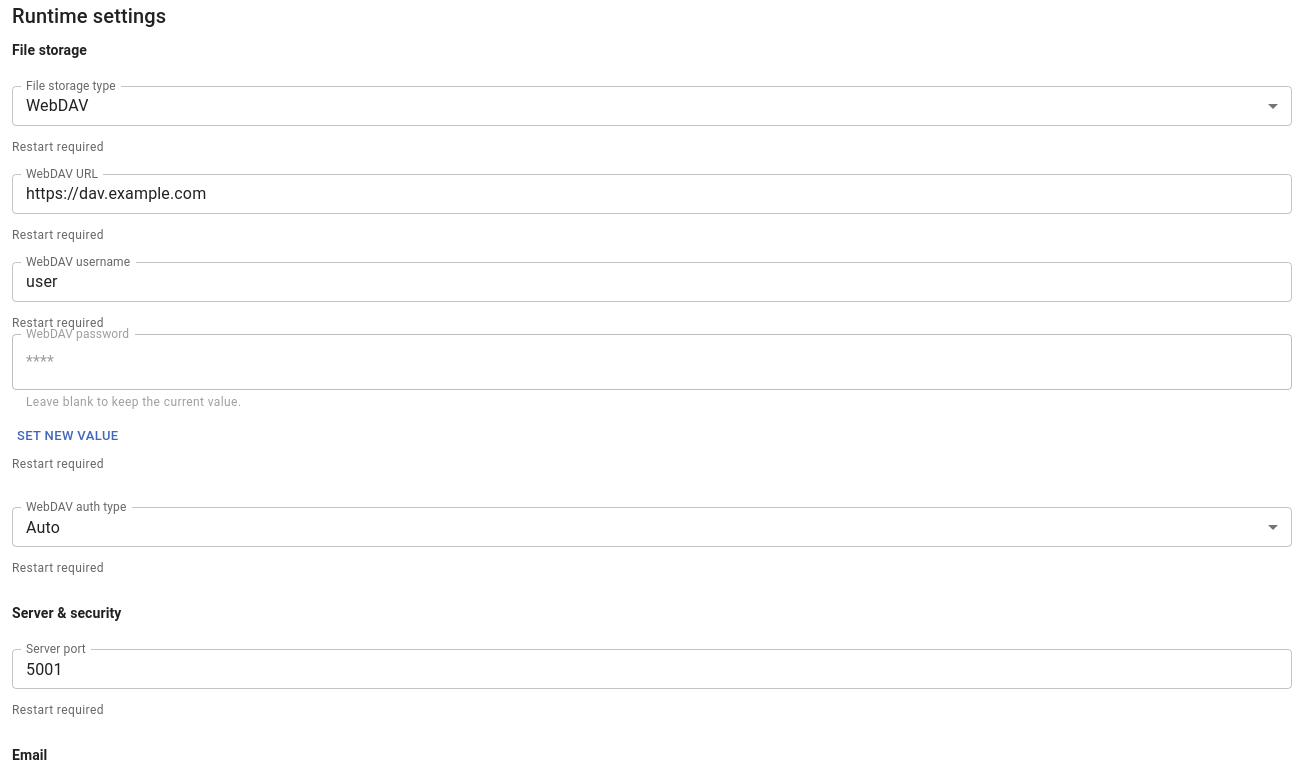
Scenario: SystemConfigEditor › disables Save when a connection key is dirty until the test passes
Clear the field labelled "WebDAV URL" at (652,194), box [12, 174, 1292, 214]
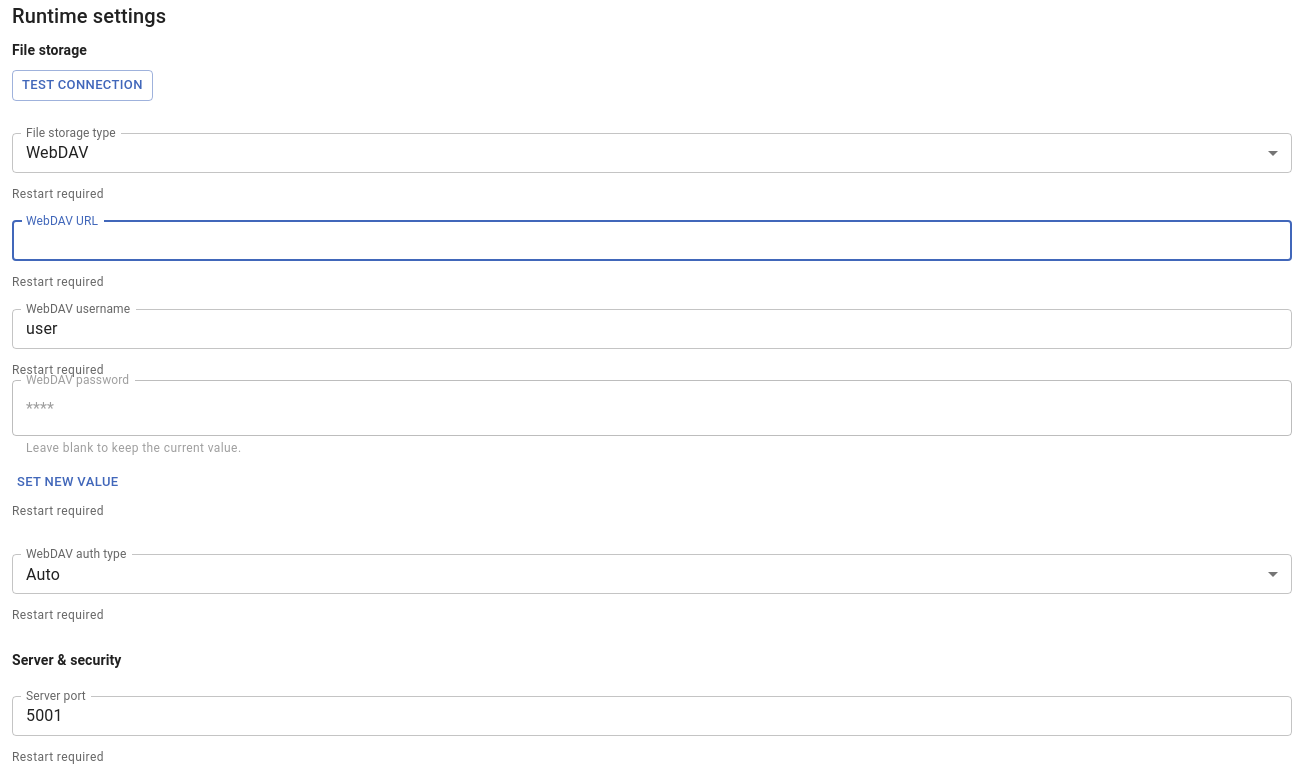
Type "https://dav.example.com/changed" into the field labelled "WebDAV URL".
click(652, 241); type("https://dav.example.com/changed")  # box [12, 221, 1292, 261]
(page scrolled)
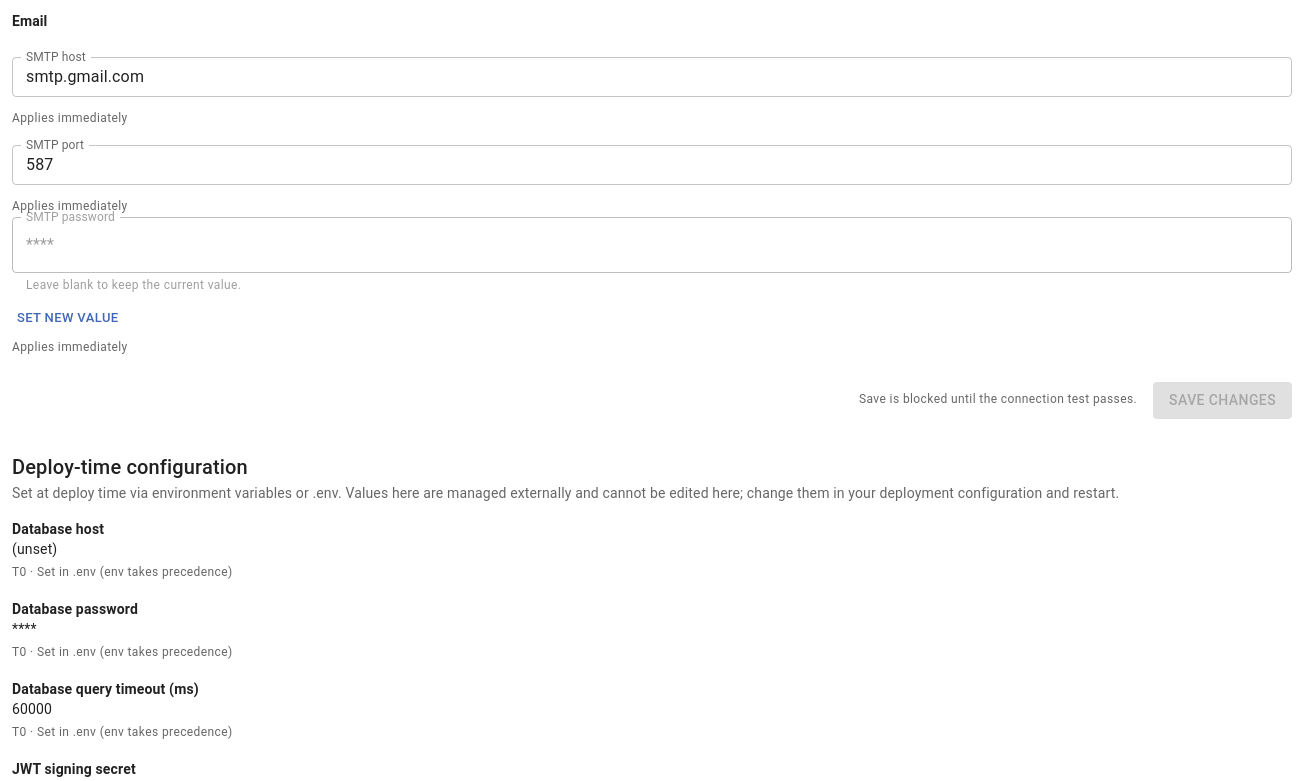
expect the button "Save changes" is disabled: met, box [1153, 382, 1292, 419]
expect the text "Save is blocked until the connection test passes." is shown: met, box [859, 390, 1137, 410]
